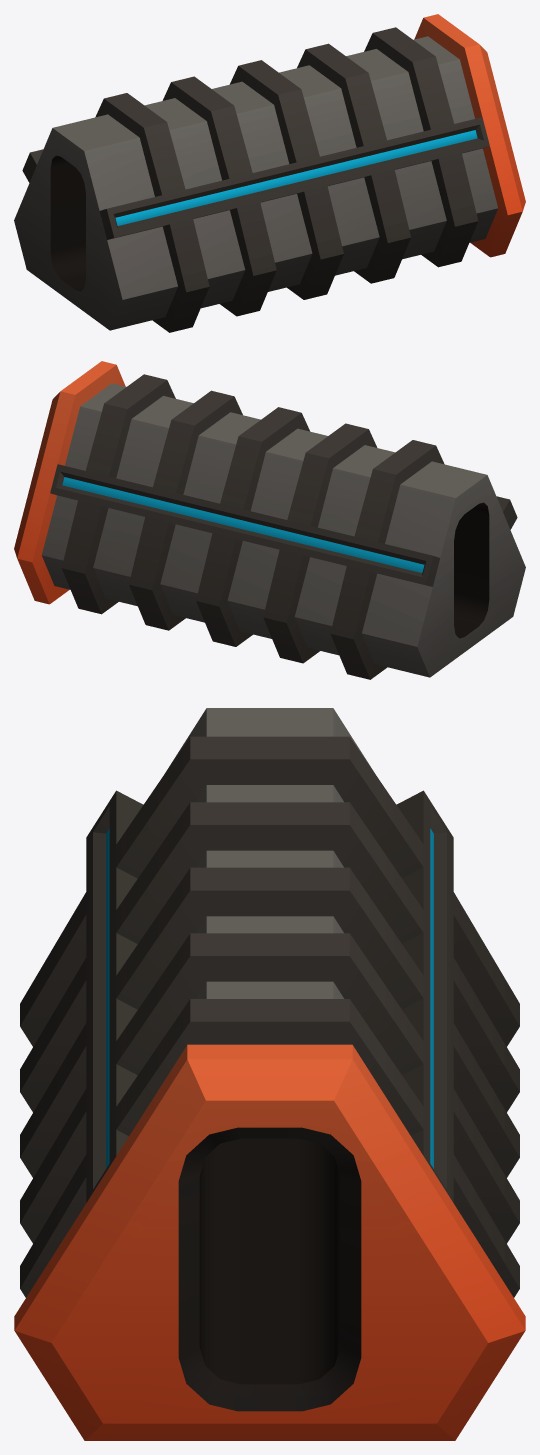
Rendered from Muzzle_Caliber2_05.fbx.
The picture shows the model from 3 angles, top to bottom: view 1: azimuth 30°, elevation 25°; view 2: azimuth 150°, elevation 25°; view 3: azimuth 270°, elevation 25°; orthographic projection. The views are drawn at different scales.
Visible parts, largest first — view 1: Muzzle_Caliber2_05; view 2: Muzzle_Caliber2_05; view 3: Muzzle_Caliber2_05.
Part boxes in pixels (left/top/right/bottom): Muzzle_Caliber2_05: left=14, top=14, right=525, bottom=332; Muzzle_Caliber2_05: left=14, top=361, right=525, bottom=679; Muzzle_Caliber2_05: left=14, top=708, right=525, bottom=1440.
Bounding box in the file's own units: 17.58 × 7.95 × 9.65.
